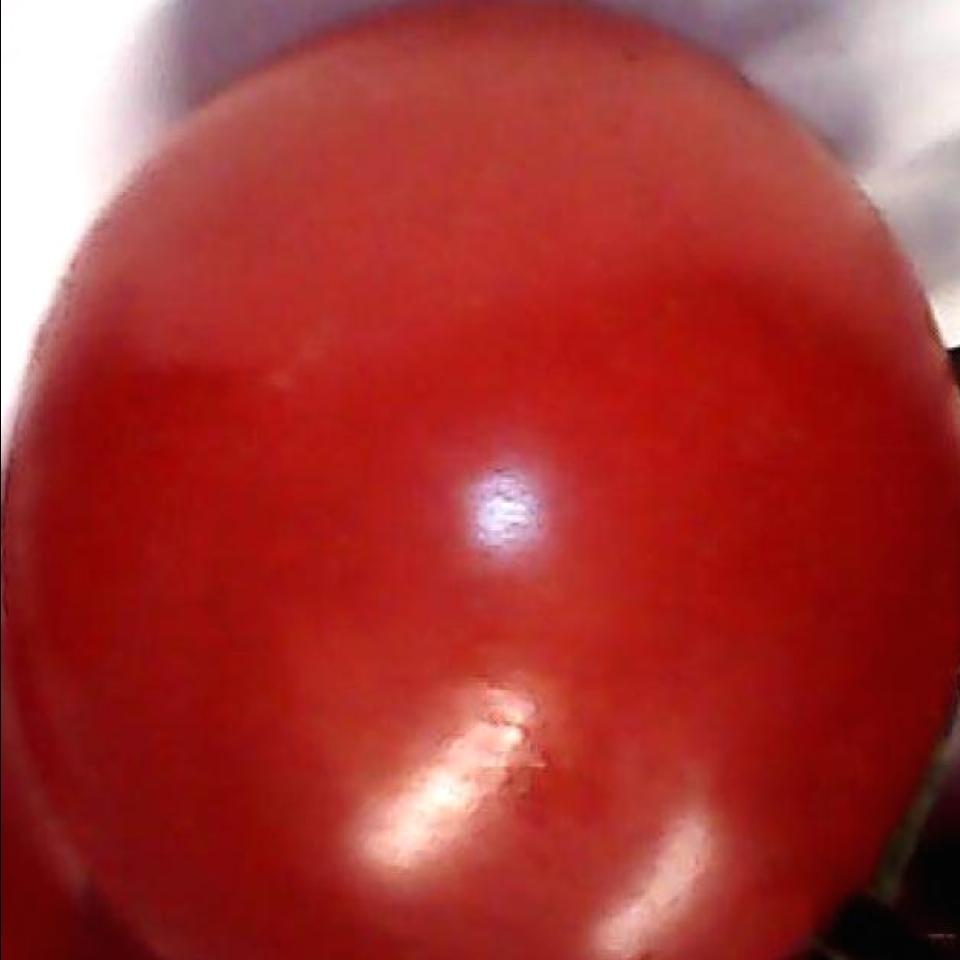Healthy: (7, 0, 912, 960)
